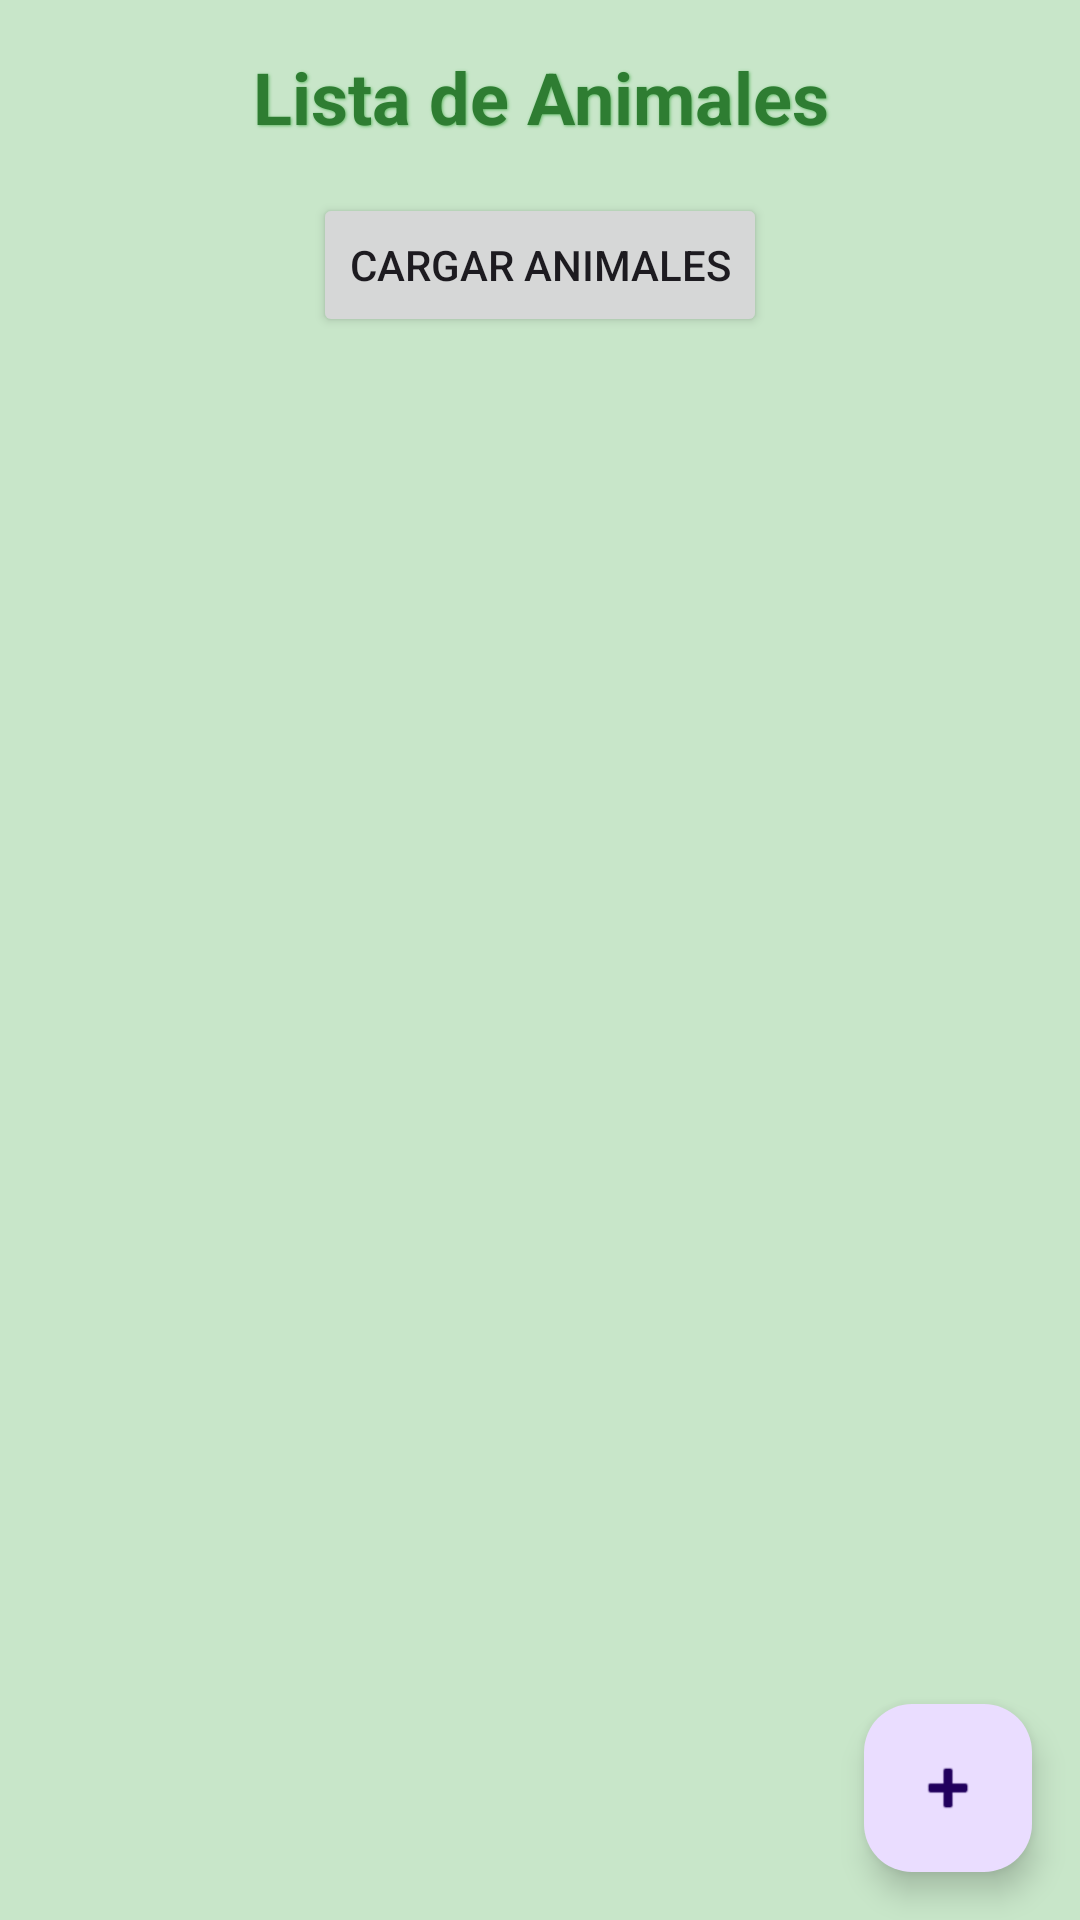

Icon bounding boxes for this 1080px×1920px phone screenshot, format (x1, y1, x2, y2):
Agregar animal: (864, 1704, 1032, 1872)
